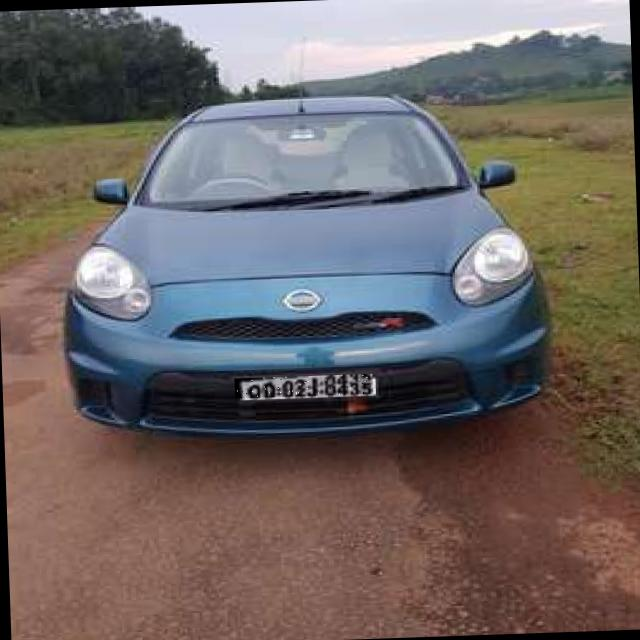Plate: (235, 374, 374, 399)
